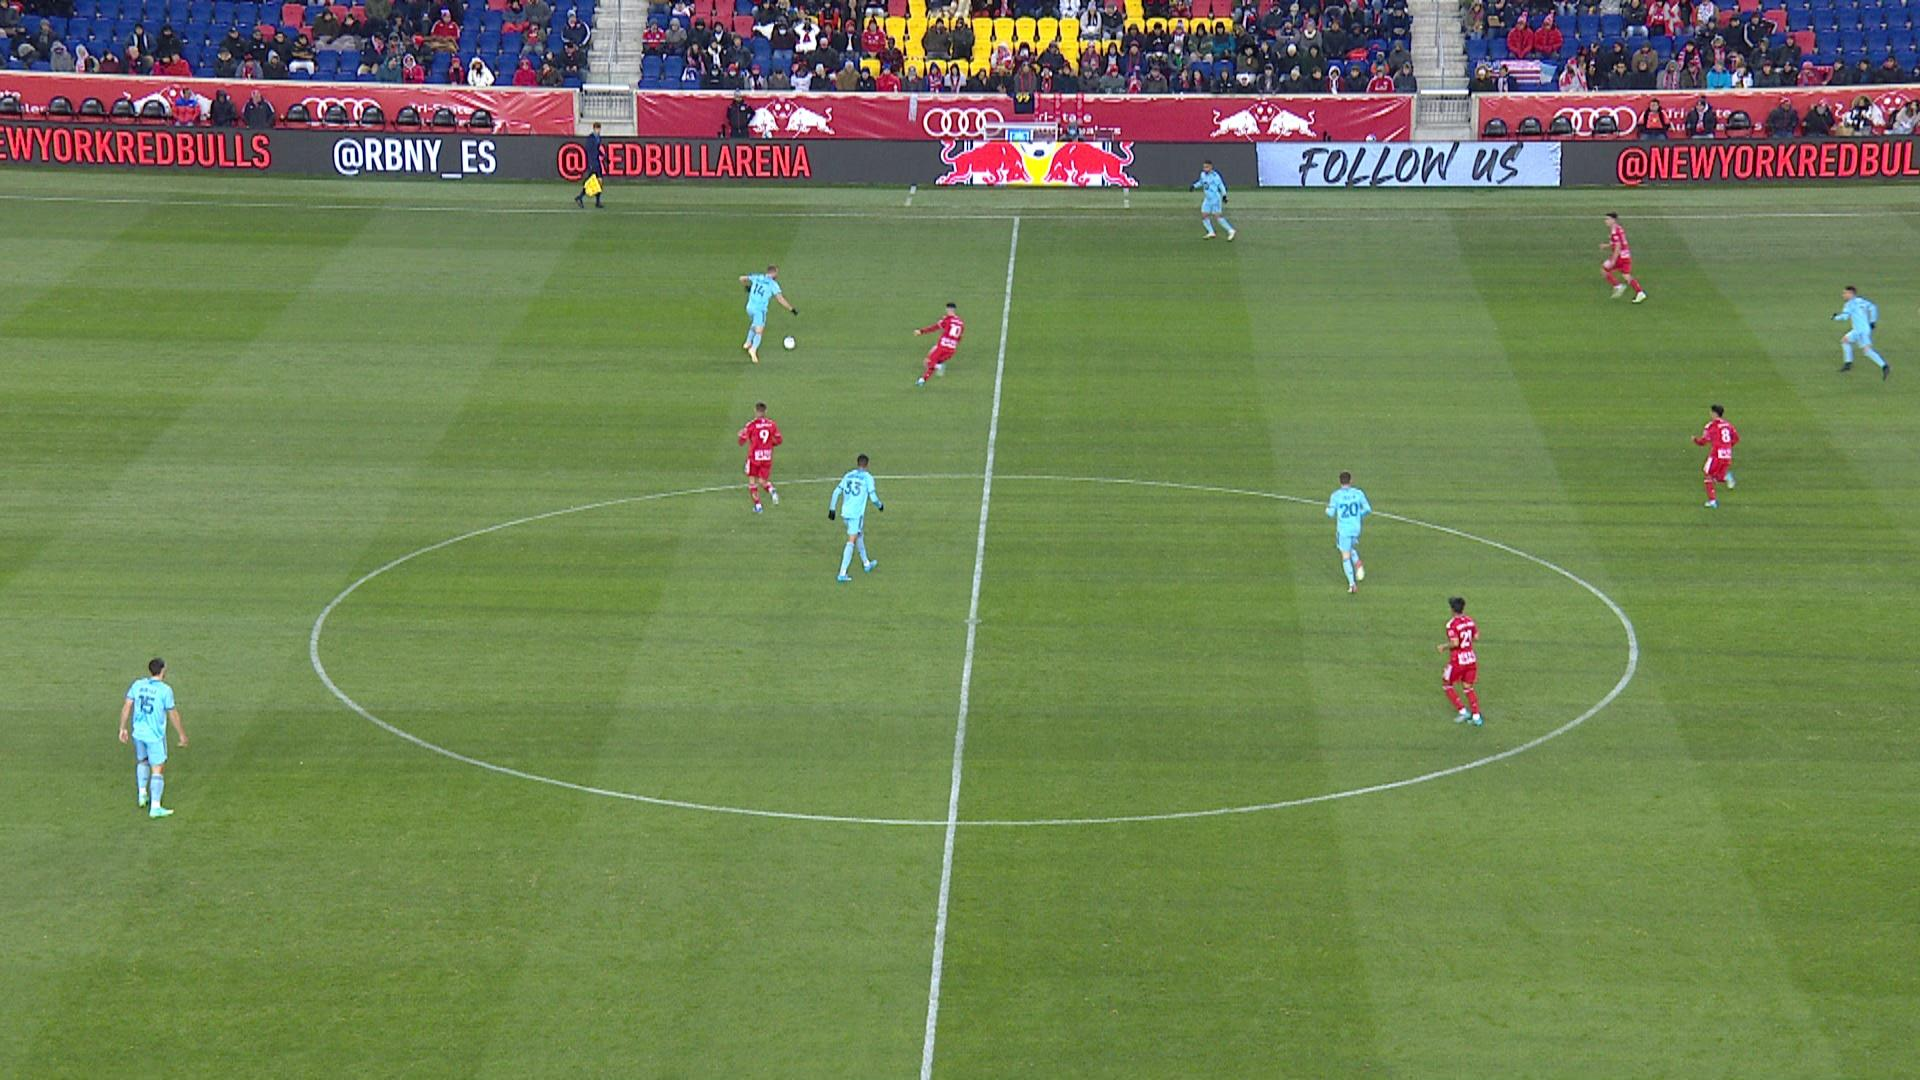football: (783, 335, 797, 351)
